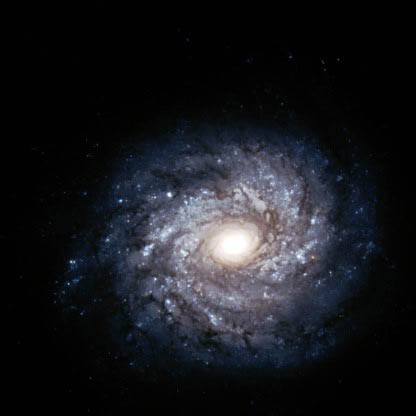NGC 3982: (60, 130, 393, 371)
